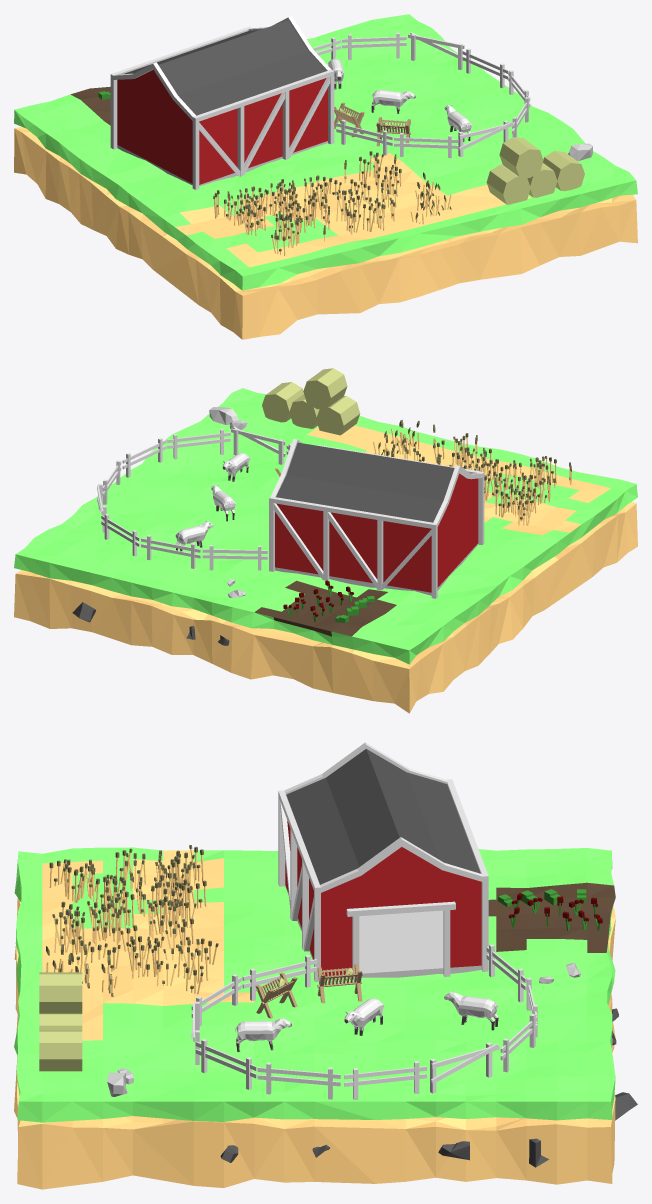
Rendered from uploads_files_923104_low+poly+farm.fbx.
3 views of the same model, one above another, from view 1: azimuth 30°, elevation 25°; view 2: azimuth 150°, elevation 25°; view 3: azimuth 270°, elevation 25° (orthographic). The views are drawn at different scales.
Parts seen in each view (by area): view 1: Plane.002, Plane.003, Cube.001, Cube.336, Cube.000, Cube.040, Plane.001, Cube.005, Cube.010, Cube.011, Cube.009, Cube.012 (+6 smaller); view 2: Plane.002, Plane.003, Cube.001, Cube.336, Cube.000, Plane.001, Cube.040, Cube.002, Cube.008, Cube.004, Cube.011, Cube.003 (+3 smaller); view 3: Plane.002, Plane.003, Cube.336, Cube.040, Cube.001, Cube.000, Cube.003, Plane.001, Cube.006, Cube.007, Cube.012, sheep.002 (+9 smaller).
Boxes of the visible parts, <box> form: Plane.002: <box>14,14,637,290</box>; Plane.003: <box>14,126,637,339</box>; Cube.001: <box>117,69,327,184</box>; Cube.336: <box>124,20,326,115</box>; Cube.000: <box>110,16,334,189</box>; Cube.040: <box>213,151,401,255</box>; Plane.001: <box>486,137,584,204</box>; Cube.005: <box>342,32,406,59</box>; Cube.010: <box>394,133,458,158</box>; Cube.011: <box>458,120,513,156</box>; Cube.009: <box>336,119,392,155</box>; Cube.012: <box>408,32,464,69</box>; Plane.002: <box>14,388,637,664</box>; Plane.003: <box>14,502,637,713</box>; Cube.001: <box>275,473,478,592</box>; Cube.336: <box>276,442,470,522</box>; Cube.000: <box>269,439,484,598</box>; Plane.001: <box>262,368,360,435</box>; Cube.040: <box>383,433,571,525</box>; Cube.002: <box>202,545,267,570</box>; Cube.008: <box>167,429,230,459</box>; Cube.004: <box>141,535,200,568</box>; Cube.011: <box>231,426,285,464</box>; Cube.003: <box>275,543,478,595</box>; Plane.002: <box>14,847,615,1122</box>; Plane.003: <box>14,875,615,1189</box>; Cube.336: <box>286,749,480,884</box>; Cube.040: <box>49,845,218,994</box>; Cube.001: <box>285,821,481,975</box>; Cube.000: <box>278,742,488,981</box>; Cube.003: <box>285,885,481,977</box>; Plane.001: <box>39,972,82,1071</box>; Cube.006: <box>344,1061,426,1099</box>; Cube.007: <box>257,1062,340,1099</box>; Cube.012: <box>430,1042,499,1093</box>; sheep.002: <box>444,991,498,1030</box>.
Bounding box in the file's own units: 1640 × 661 × 1652.
